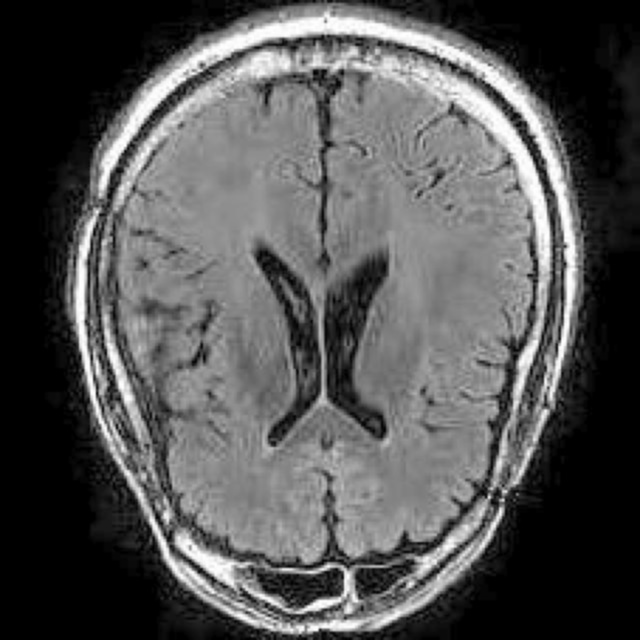glioma tumor: (132, 83, 474, 550)
